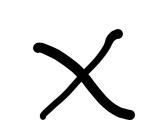mult: (33, 30, 133, 122)
